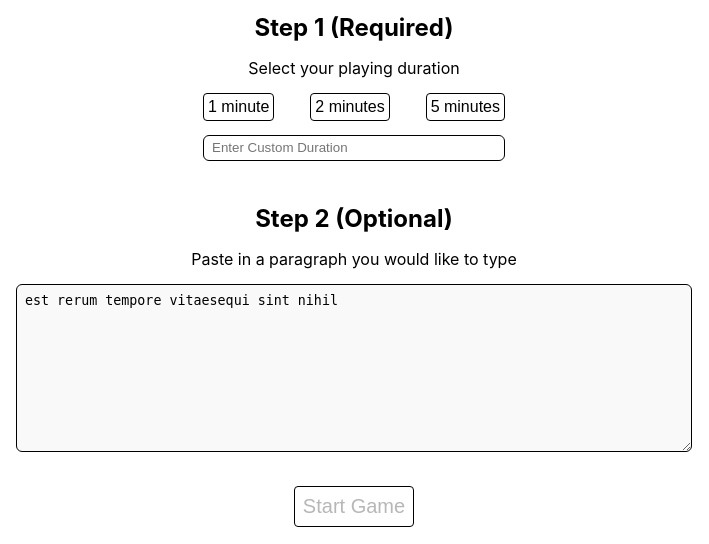
start game button is enabled only when a duration is selected
This screenshot has width=709, height=544.
Expected: the button "Start Game" is disabled, [295,487,413,526]
Click the button "1 minute": [239, 107] box [204,94,273,120]
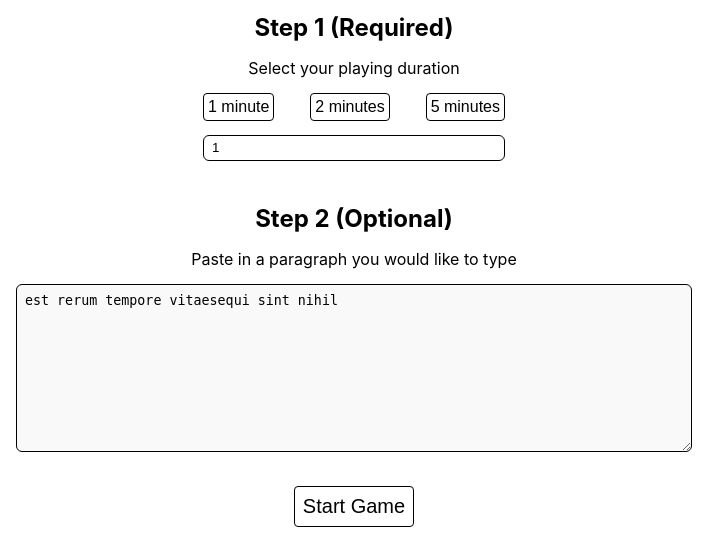
Expected: the button "Start Game" is enabled, [295,487,413,526]
